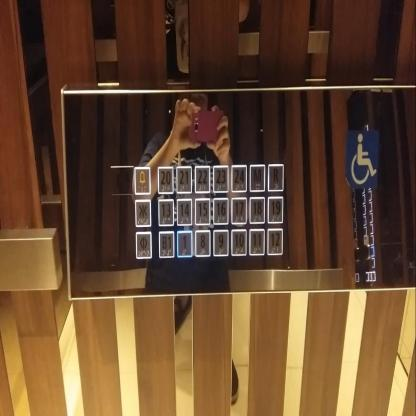1: (176, 229, 193, 258)
10: (231, 228, 247, 257)
11: (248, 228, 265, 256)
12: (266, 228, 284, 256)
13: (157, 198, 175, 227)
14: (176, 198, 192, 226)
15: (194, 196, 211, 226)
16: (212, 196, 229, 226)
17: (230, 196, 247, 225)
18: (248, 195, 265, 225)
19: (267, 195, 283, 224)
20: (157, 165, 174, 195)
21: (176, 165, 192, 194)
22: (194, 164, 210, 195)
23: (212, 163, 229, 194)
24: (231, 164, 247, 193)
8: (194, 229, 211, 257)
9: (212, 228, 229, 257)
B1: (158, 230, 175, 260)
CH: (346, 129, 378, 191)
M: (249, 163, 266, 193)
R: (267, 162, 284, 192)
alarm: (133, 165, 151, 196)
close: (134, 198, 152, 228)
open: (135, 230, 152, 260)
